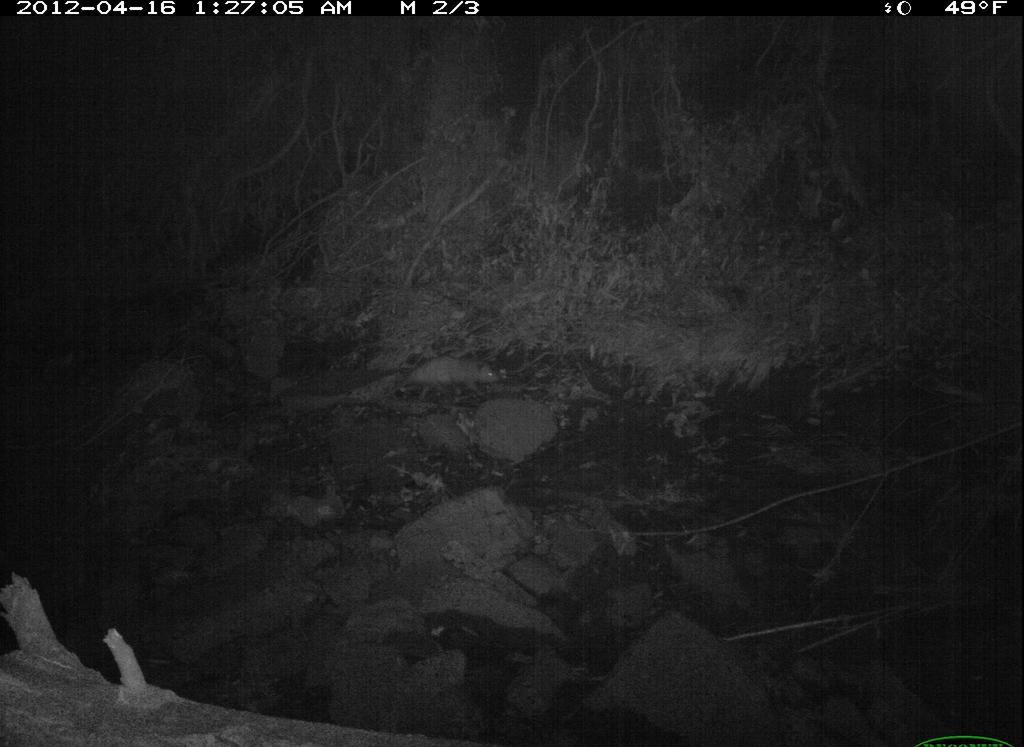opossum: (391, 346, 515, 418)
